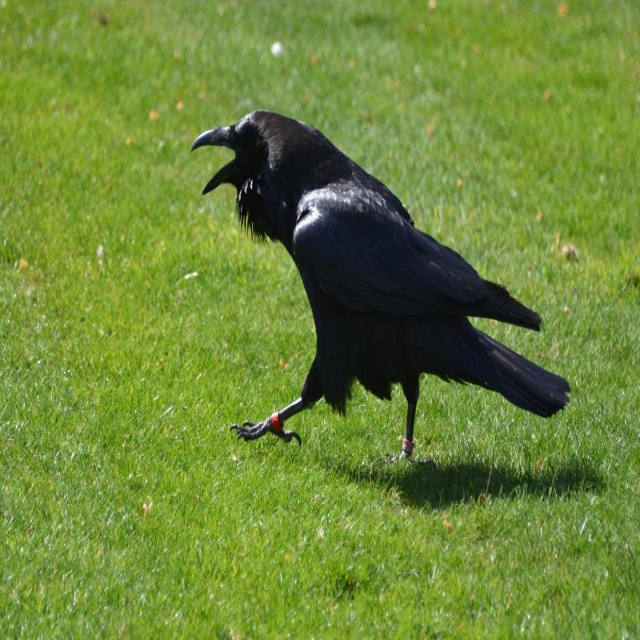Raven: (191, 110, 572, 469)
